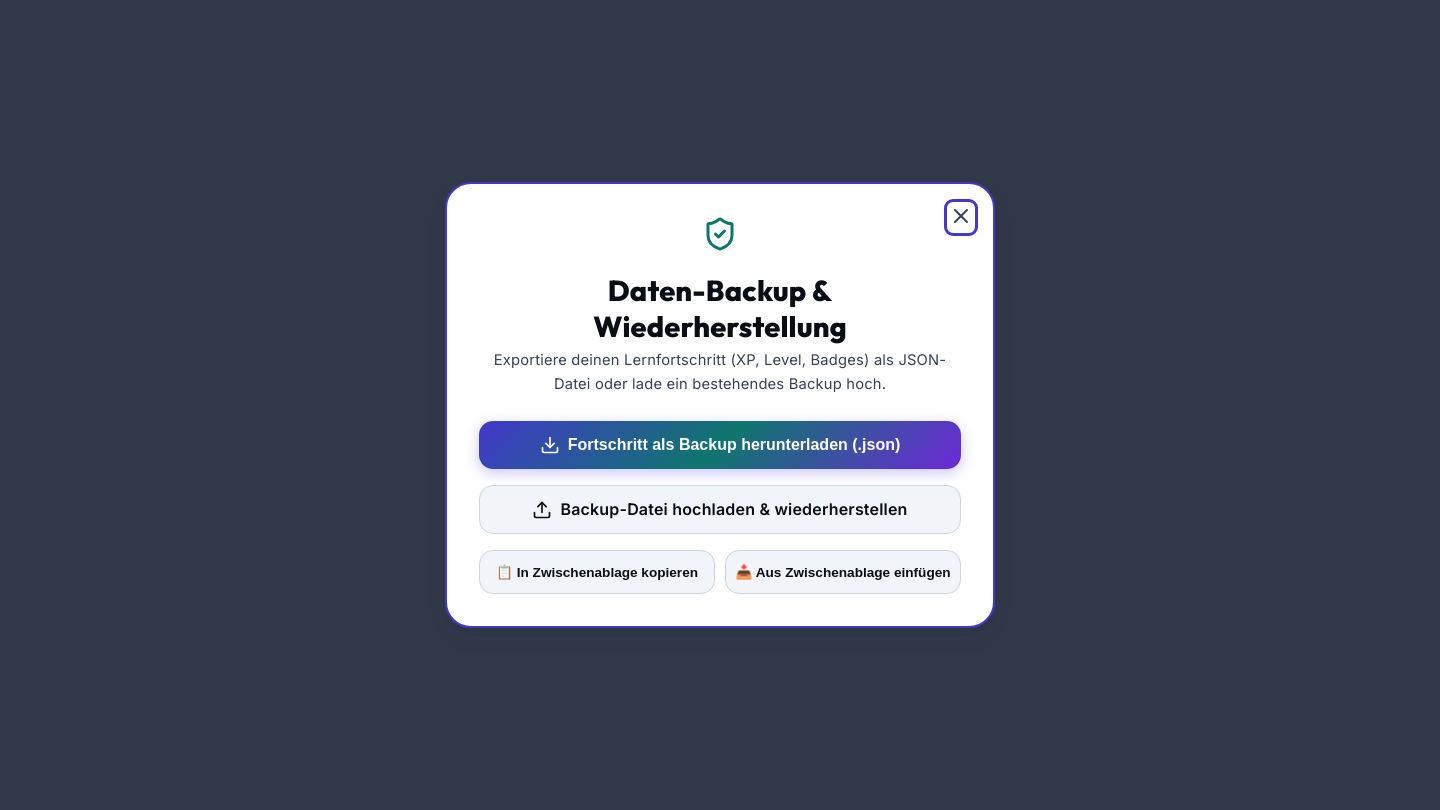
BackupModal › stellt einen gültigen Spielstand aus der Zwischenablage wieder her
Click the button "📥 Aus Zwischenablage einfügen".
click(843, 572)  # box [725, 550, 961, 594]
Wait 1500 ms
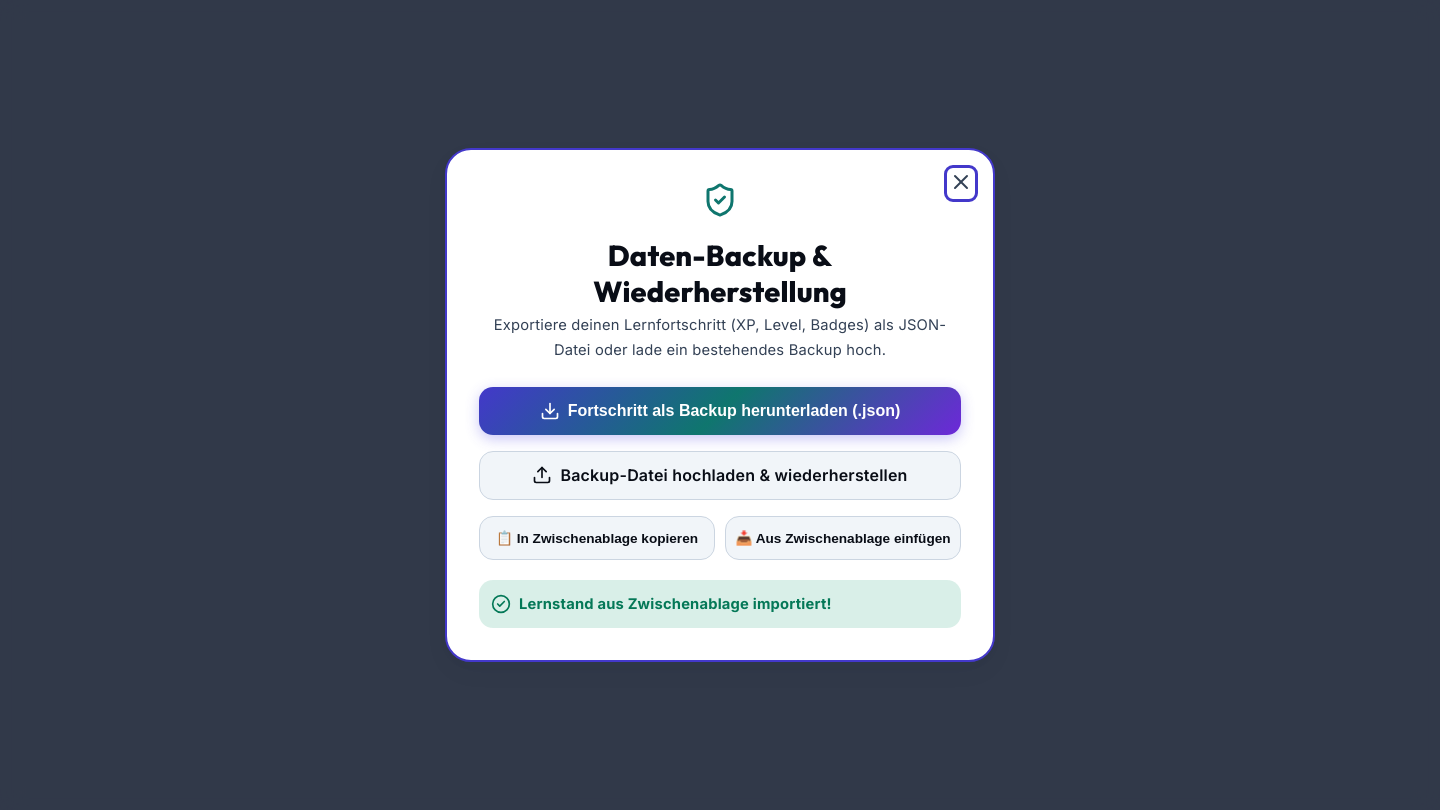
Expected: the text "Lernstand aus Zwischenablage importiert!" is shown, [519, 592, 832, 616]
